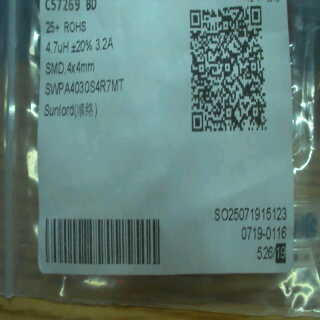4.7uH: (43, 37, 71, 58)
